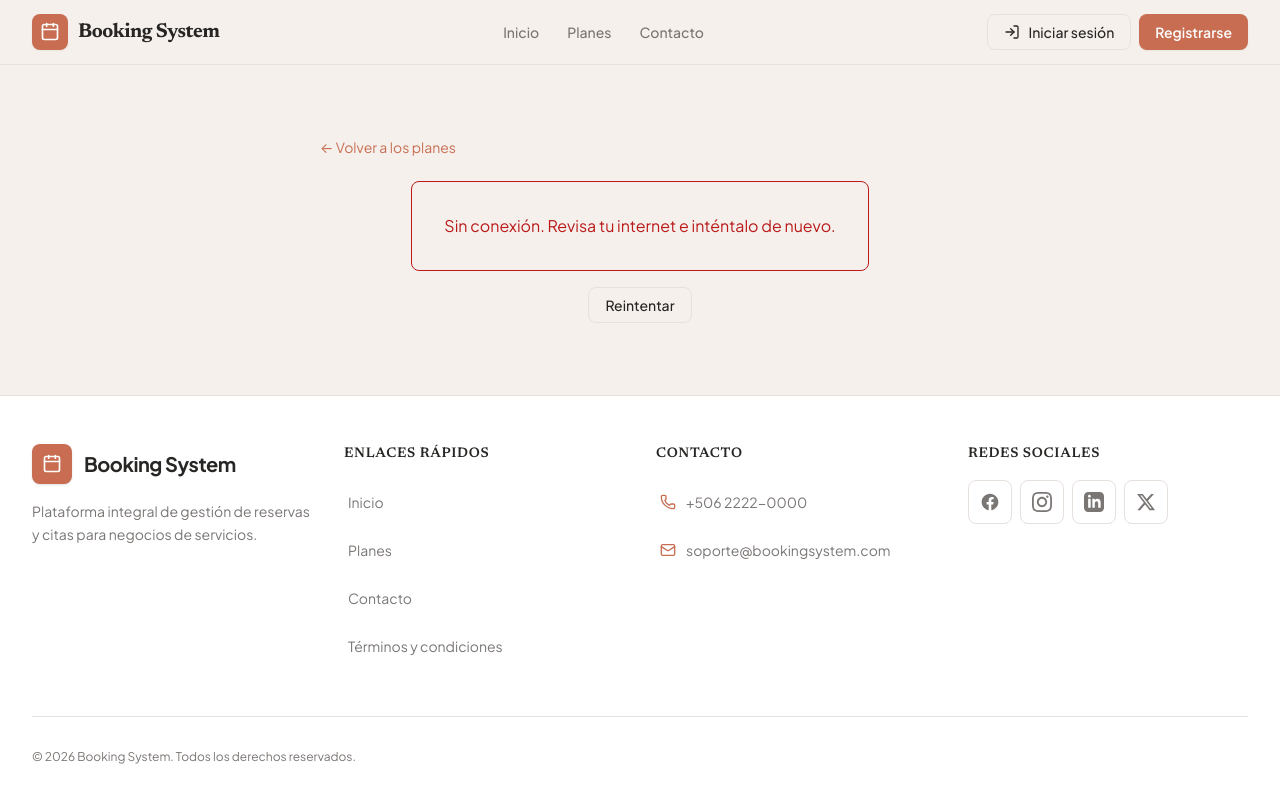
Test: PlanDetailPage (KAN-21) › KAN-21: AC-KAN-21-06 shows the network error and reads again on retry
This screenshot has width=1280, height=800.
Expected: the text "Sin conexión. Revisa tu internet e inténtalo de nuevo." is shown, [444,214,836,238]
Click the button "Reintentar" at (640, 305), box [588,287,692,323]
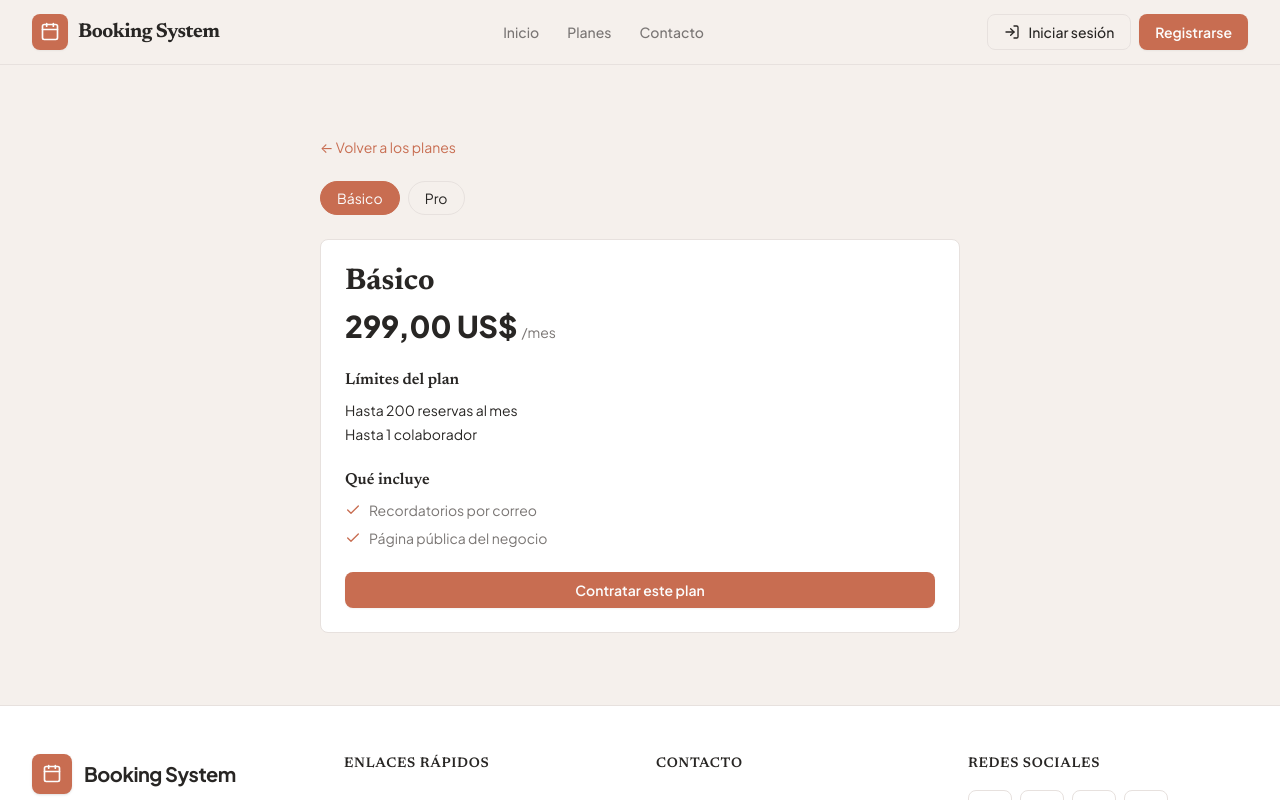
Expected: the heading "Básico" is shown, [345,267,434,297]
